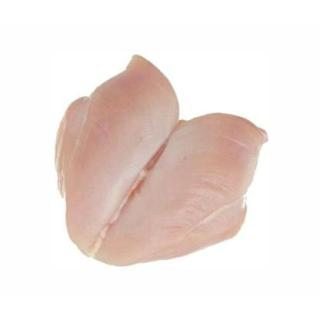Ayam: (54, 57, 264, 265)
